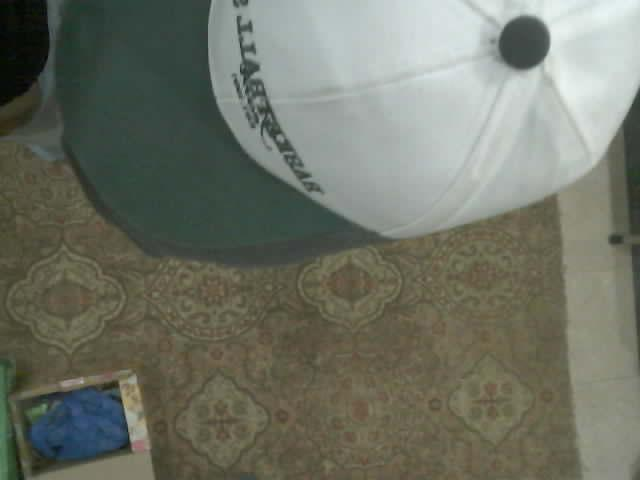cap: (55, 0, 639, 263)
